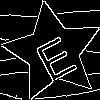E: (28, 27, 79, 83)
